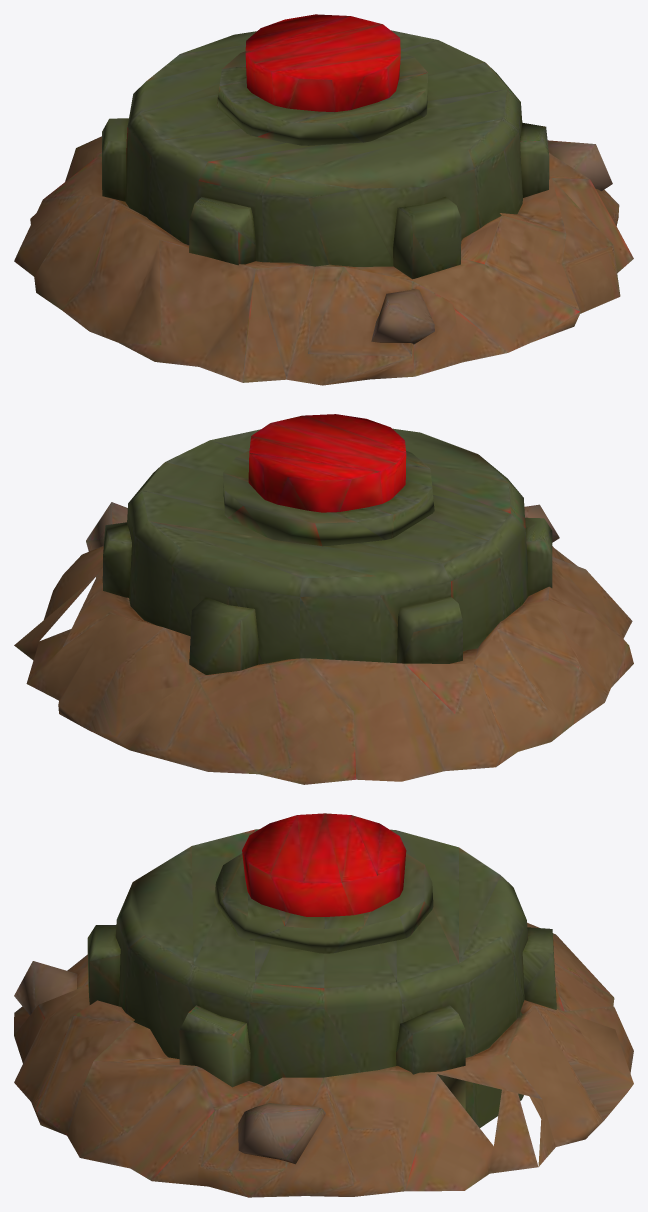
File: mine.glb
The picture shows the model from 3 angles, top to bottom: view 1: azimuth 30°, elevation 25°; view 2: azimuth 150°, elevation 25°; view 3: azimuth 270°, elevation 25°; orthographic projection. The views are drawn at different scales.
Parts seen in each view (by area): view 1: hull; view 2: hull; view 3: hull.
Part boxes in pixels (box(x1,y1,x2,y2)): hull: box(14, 14, 633, 385); hull: box(14, 414, 633, 784); hull: box(14, 813, 633, 1197).
Size of the model in its own units: 1 by 0.3908 by 1.
Materials: 1 (1 with a texture image).
